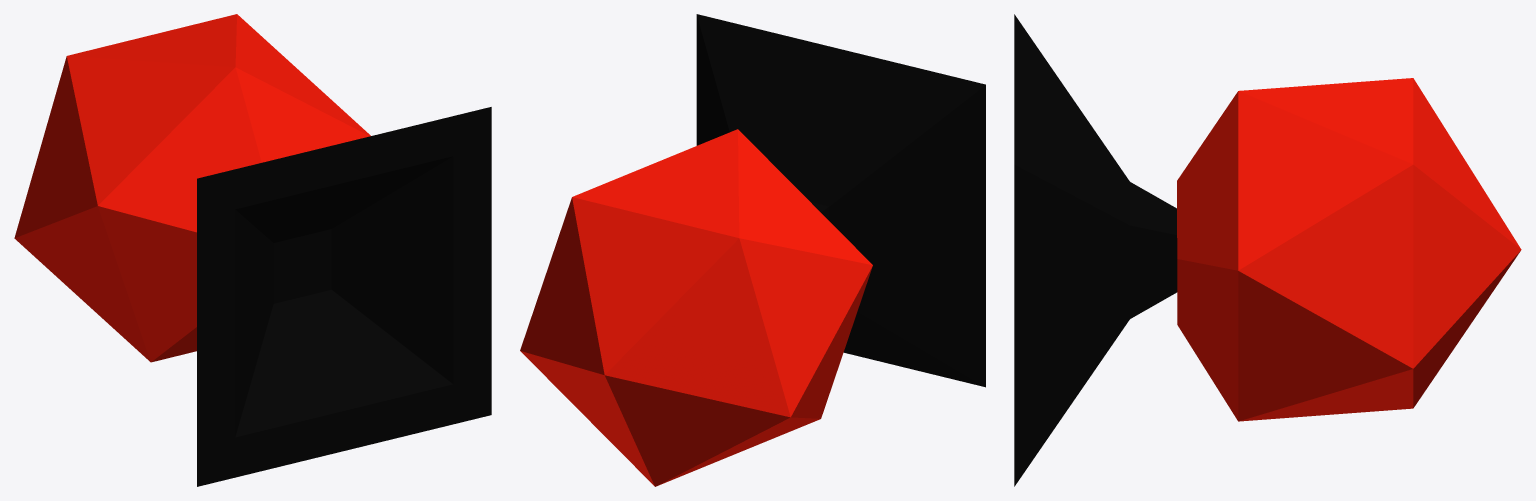
The model's file is hupe.fbx.
3 renders of one model, left to right at view 1: azimuth 30°, elevation 25°; view 2: azimuth 150°, elevation 25°; view 3: azimuth 270°, elevation 25°, orthographic. The views are drawn at different scales.
Parts seen in each view (by area): view 1: troyaner_5; view 2: troyaner_5; view 3: troyaner_5.
Boxes of the visible parts, box(x1,y1,x2,y2) form: troyaner_5: box(14, 14, 491, 486); troyaner_5: box(520, 14, 985, 486); troyaner_5: box(1014, 14, 1521, 486).
Size of the model in its own units: 182 by 182 by 259.
